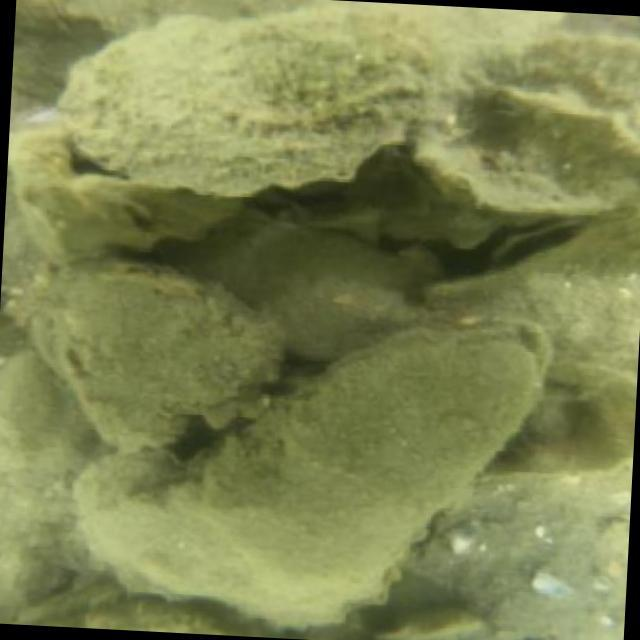Oyster- Indeterminate: (151, 311, 557, 613), (53, 18, 459, 213), (25, 254, 286, 442), (435, 204, 640, 388), (391, 478, 617, 640), (223, 227, 452, 354)
Oyster-Closed: (456, 31, 640, 133)
Oyster-Open: (475, 206, 568, 265)
